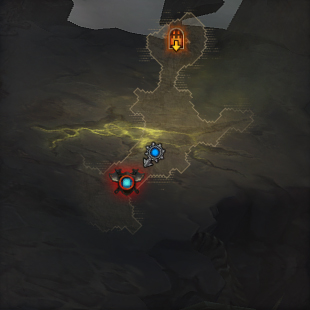Exit: (168, 25, 187, 53)
